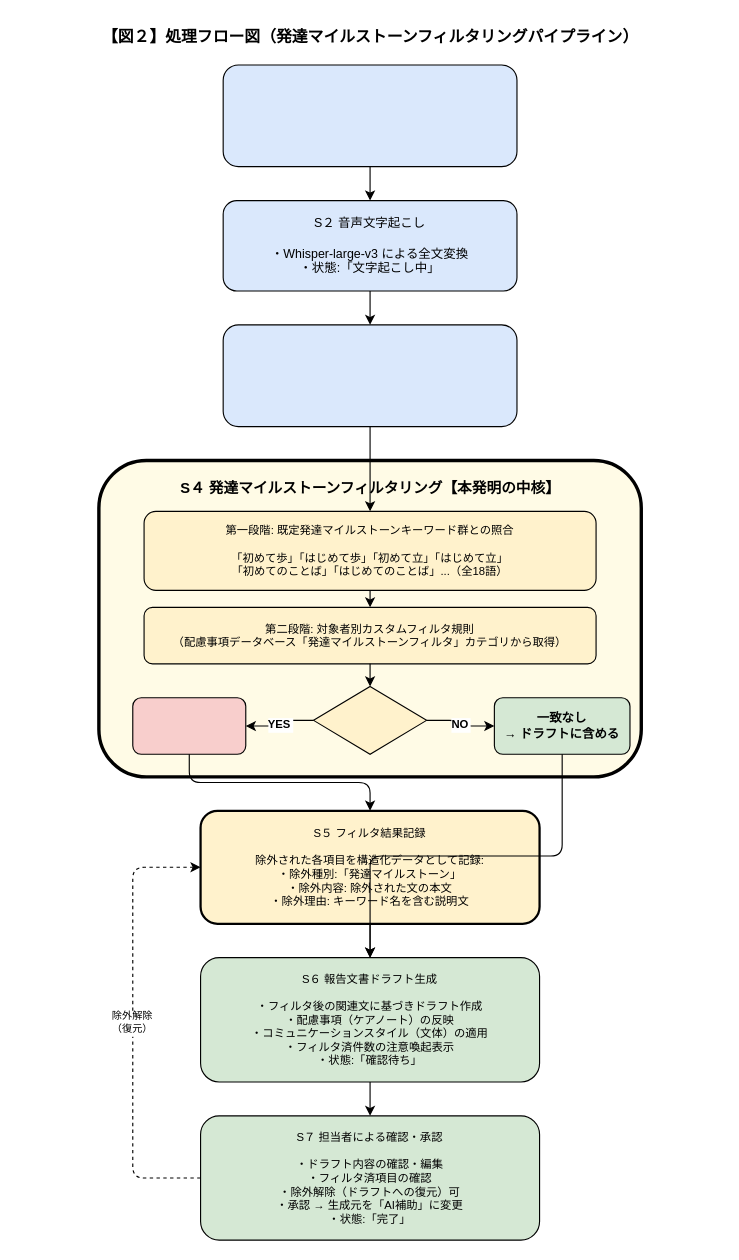
The diagram is 739 pixels wide and 1260 high, and some of its shapes have lost their labels. The box of each missing label's shape, as (x1, y1, x2, y2) in pixels:
S１ 音声受付 ・音声ファイル受付 ・形式／サイズ検証 ・状態:「受付中」: (222, 64, 517, 167)
S３ 対象者別抽出 ・対象者マスタ氏名照合 ・対象者ごとの関連文抽出 ・状態:「抽出中」: (222, 324, 517, 427)
キーワード 一致？: (312, 685, 427, 754)
一致あり → 除外: (132, 697, 246, 754)
